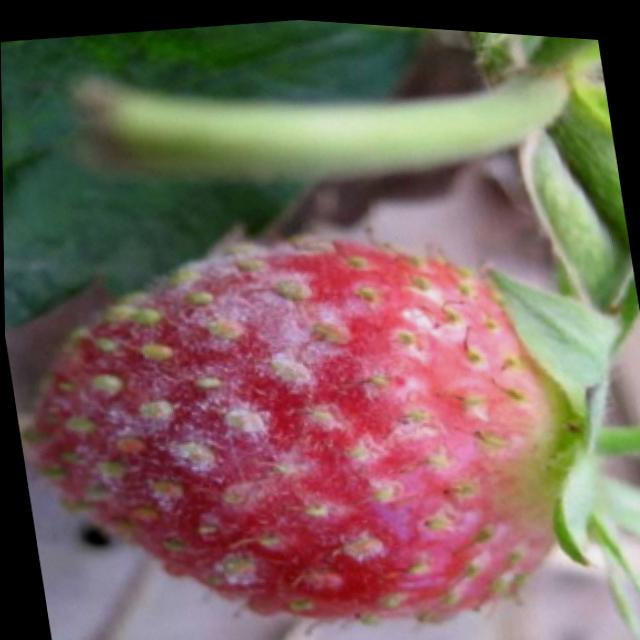Powdery Mildew Fruit: (22, 231, 597, 622)
